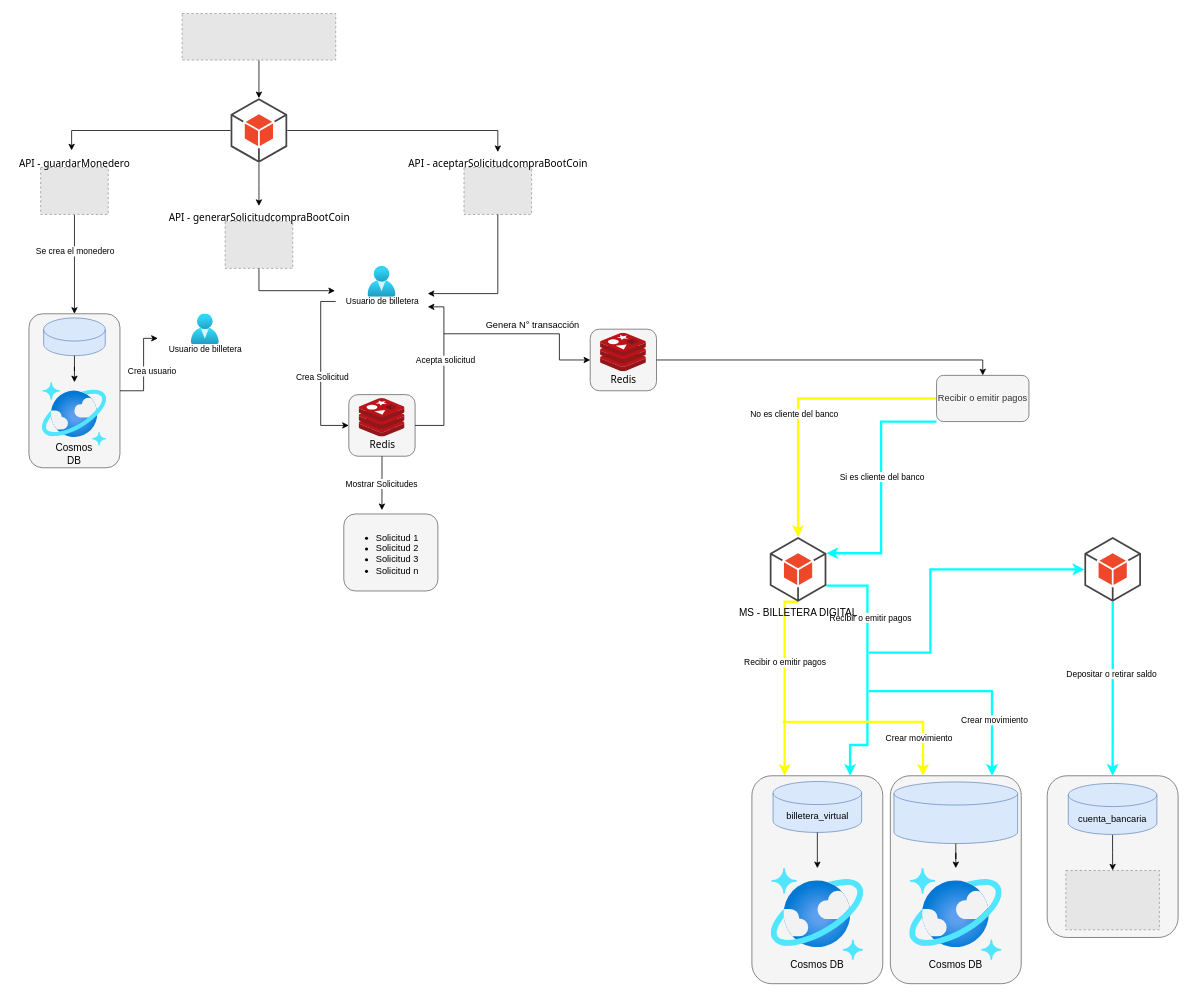
Some shapes in this 1192 by 997 pixel diagram are drawn without their labels. Grey dashed boxes stand in for pictures. The centre of each missing label's shape, as x and y in pixels:
billetera_virtual_movimiento: (x=955, y=812)
monedero: (x=74, y=336)
MS - CUENTA BANCARIA: (x=1112, y=569)
MS - MONEDERO: (x=258, y=130)
